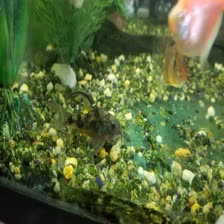Kiros: (42, 92, 140, 155)
Plano: (170, 0, 220, 64)
Transparente: (156, 41, 188, 94)
